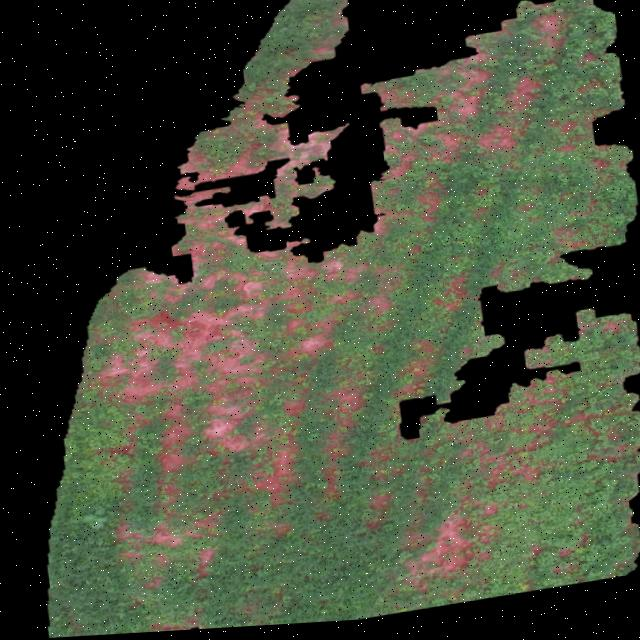Weed: (43, 0, 640, 638)
